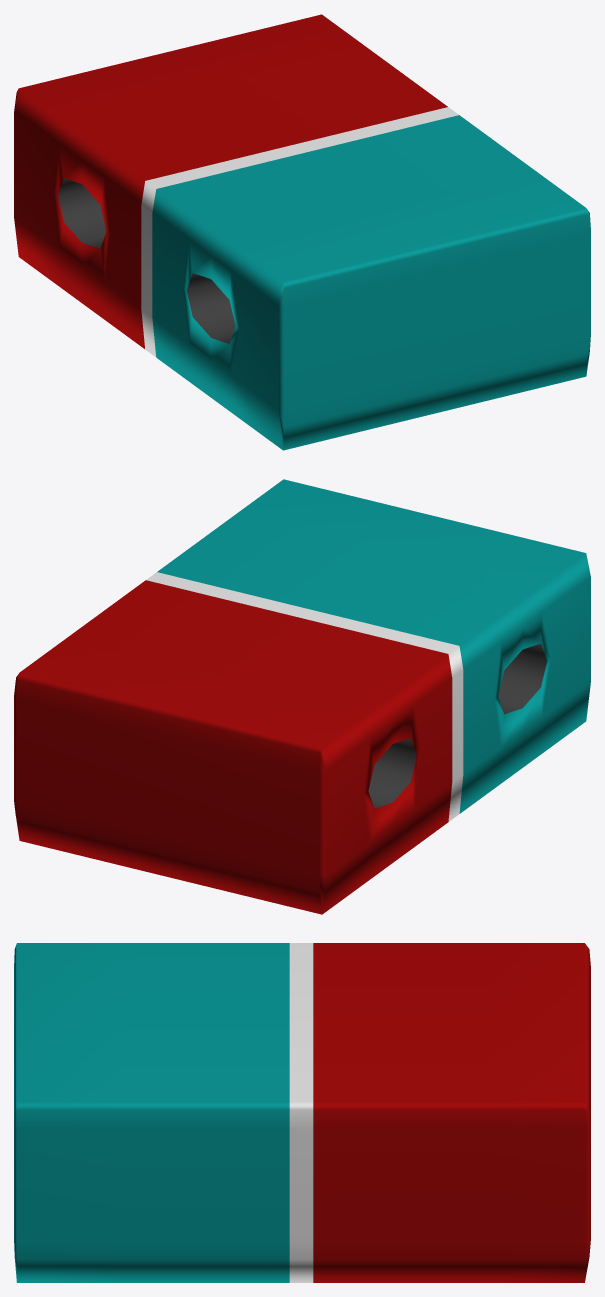
The model's file is Plug.fbx.
The picture shows the model from 3 angles, top to bottom: view 1: azimuth 30°, elevation 25°; view 2: azimuth 150°, elevation 25°; view 3: azimuth 270°, elevation 25°; orthographic projection. The views are drawn at different scales.
Parts seen in each view (by area): view 1: pCube1; view 2: pCube1; view 3: pCube1.
Part boxes in pixels (x1,y1,x2,y2): pCube1: (14, 14, 590, 450); pCube1: (14, 479, 590, 914); pCube1: (14, 943, 590, 1282).
Size of the model in its own units: 1.48 by 0.7633 by 2.21.
